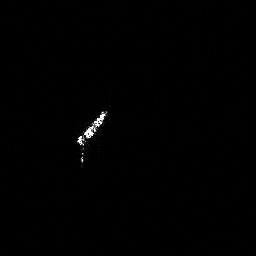ship: (72, 106, 111, 168)
